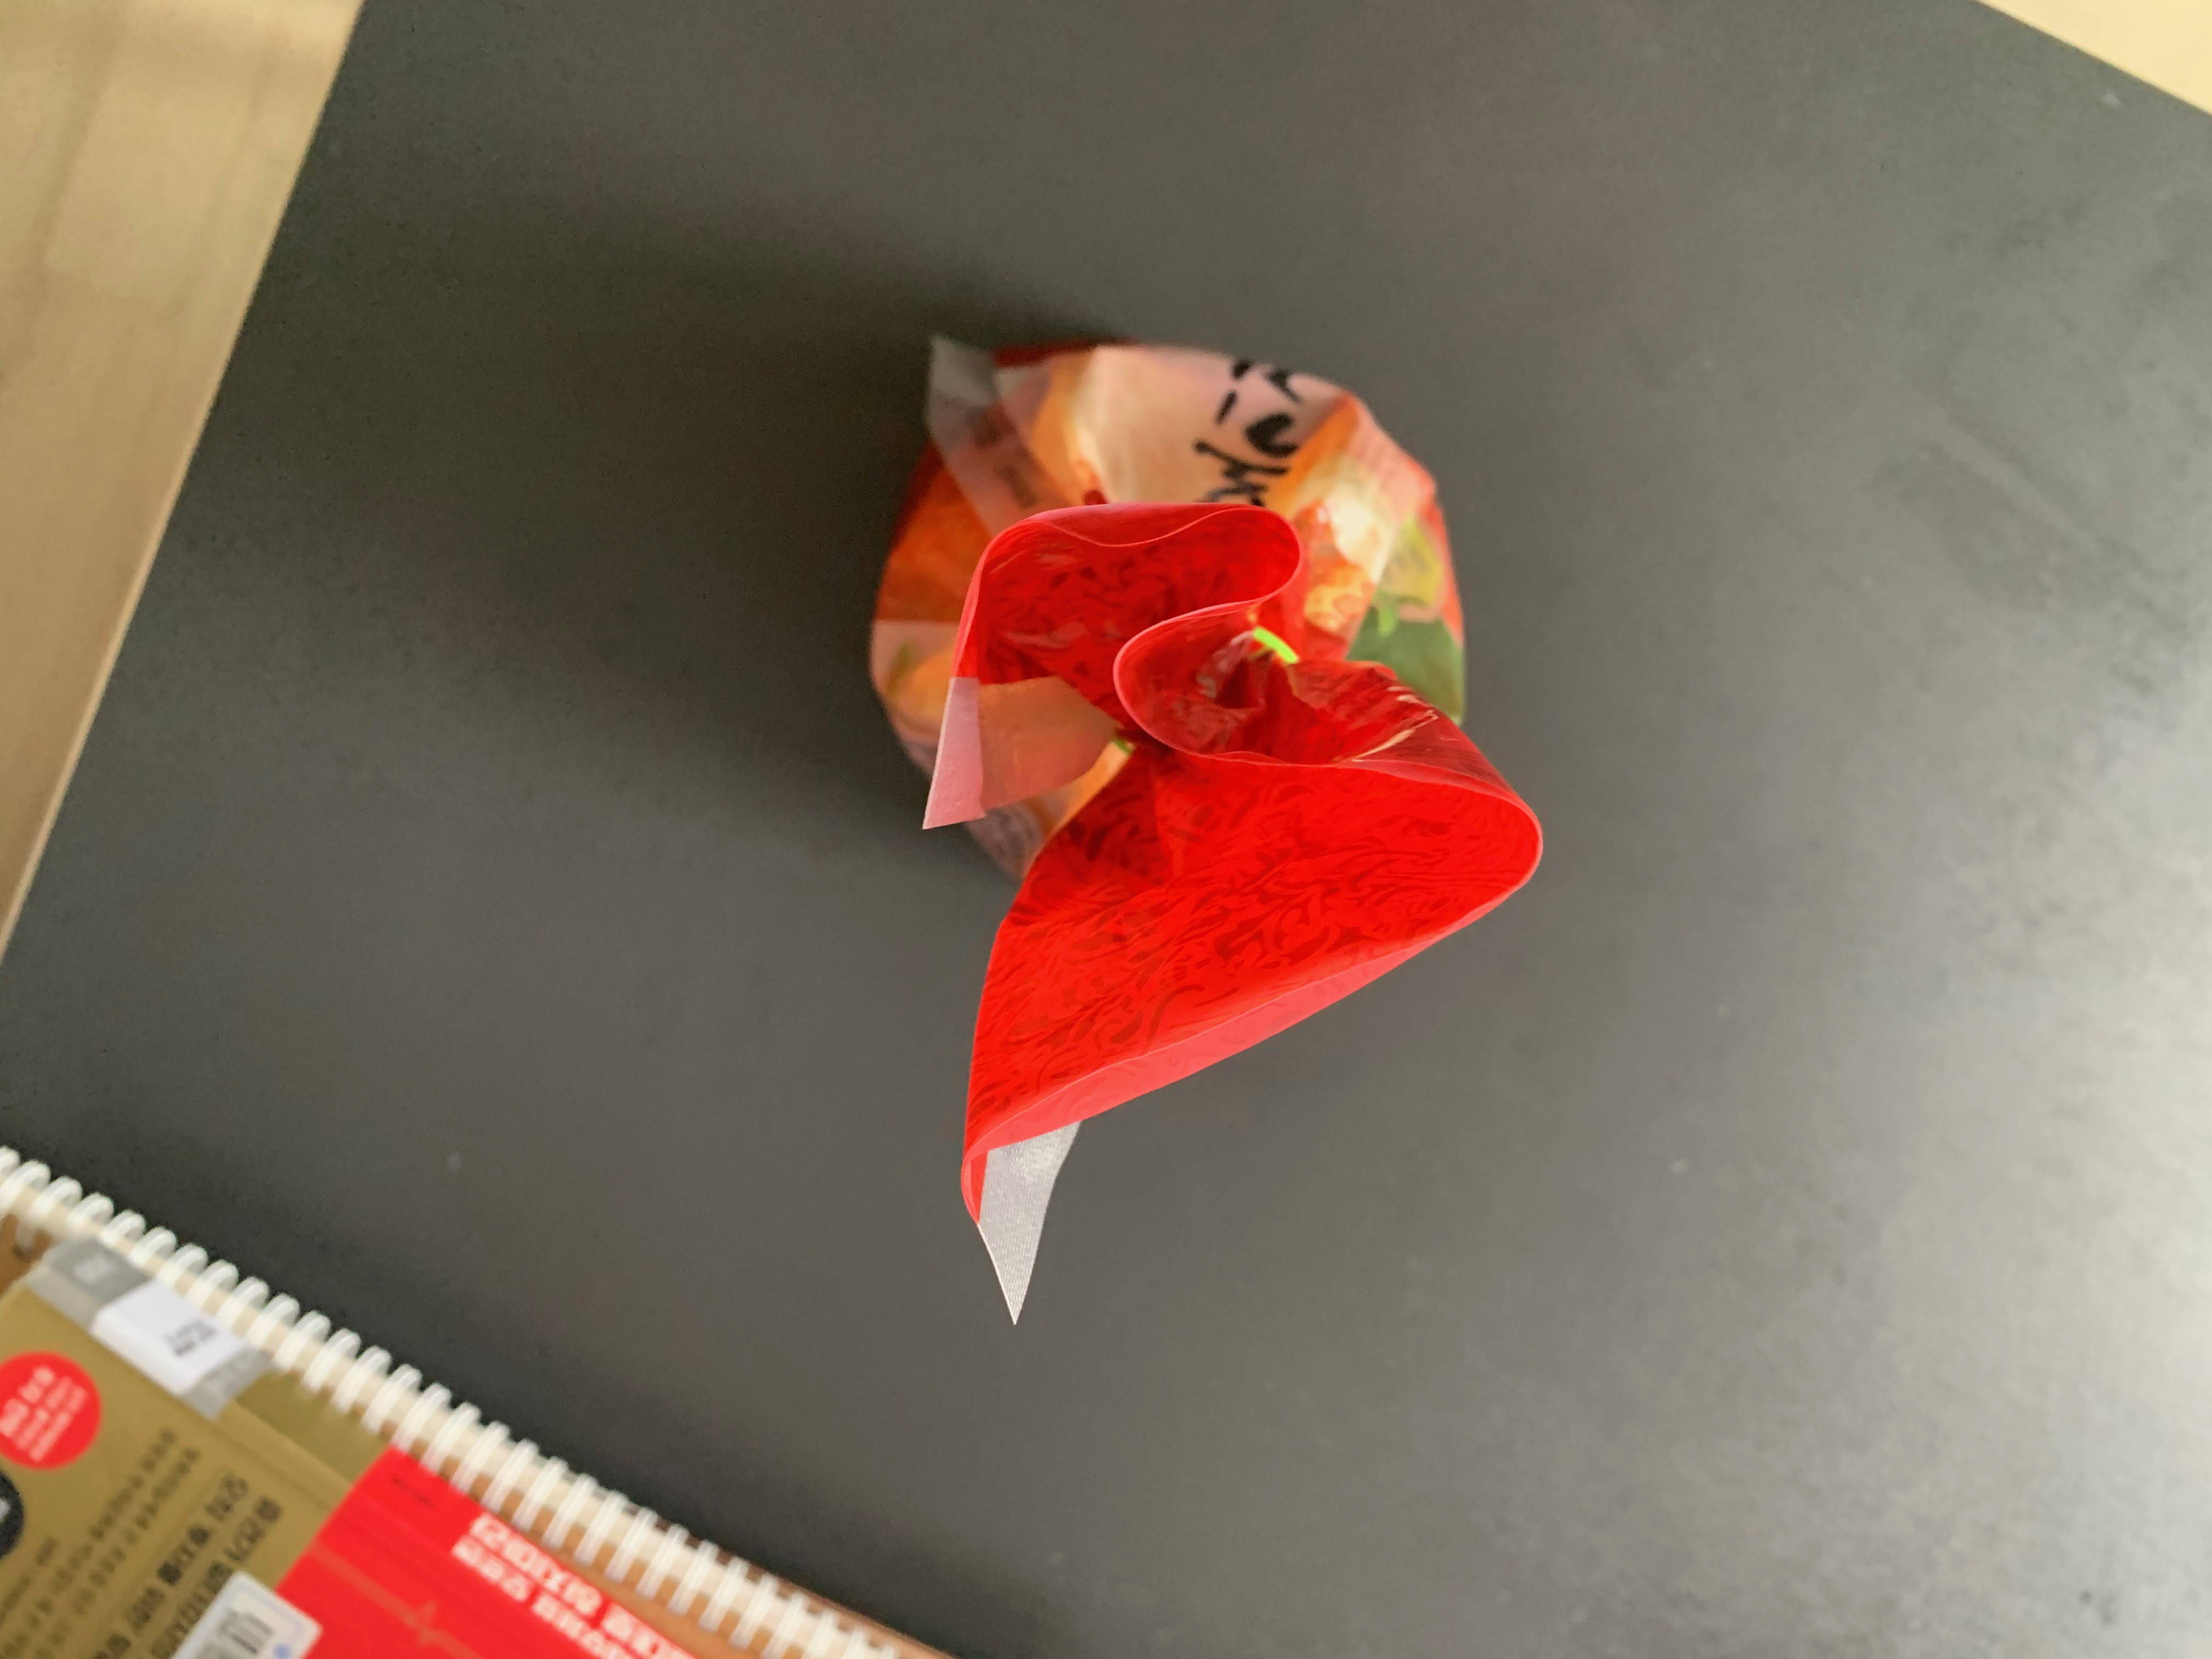kimchi: (859, 336, 1545, 1161)
